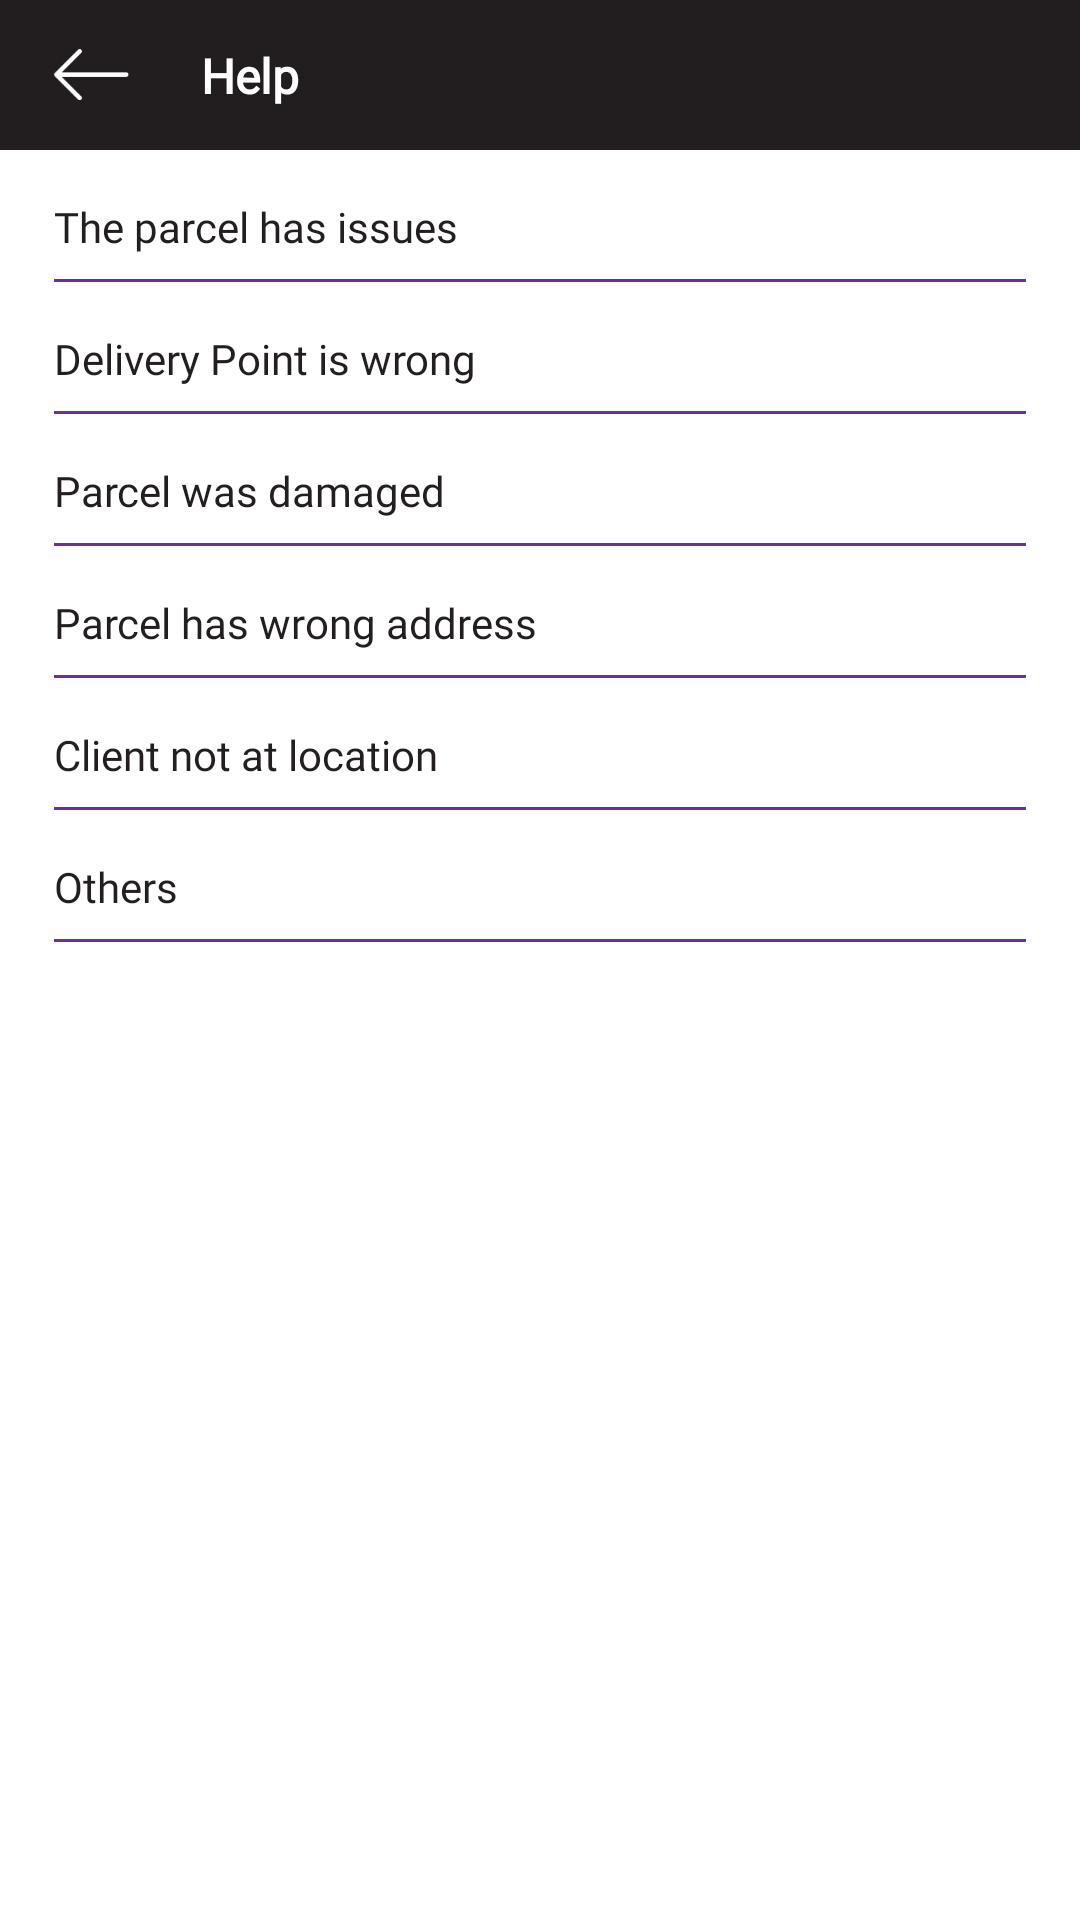

Named icons in this screenshot (1080px×1920px) and their bounding boxes, (x1, y1, x2, y2):
back: (54, 49, 129, 100)
